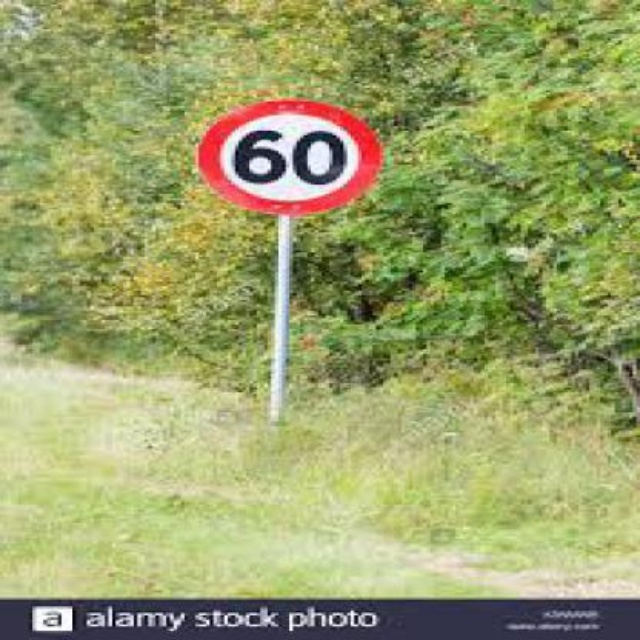Tốc độ tối đa cho phép 80km/h: (204, 99, 379, 213)
